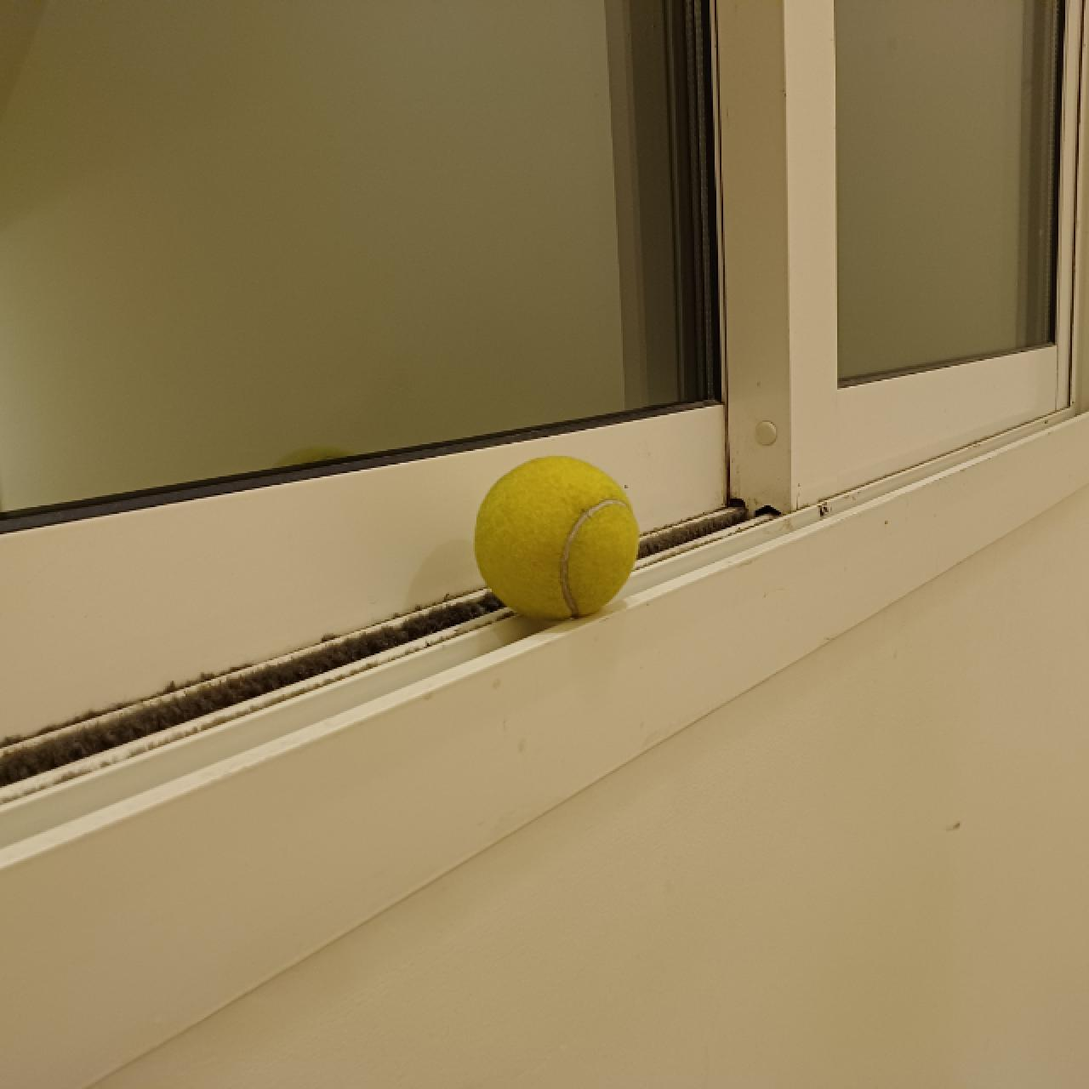tennis-ball: (470, 453, 640, 625)
